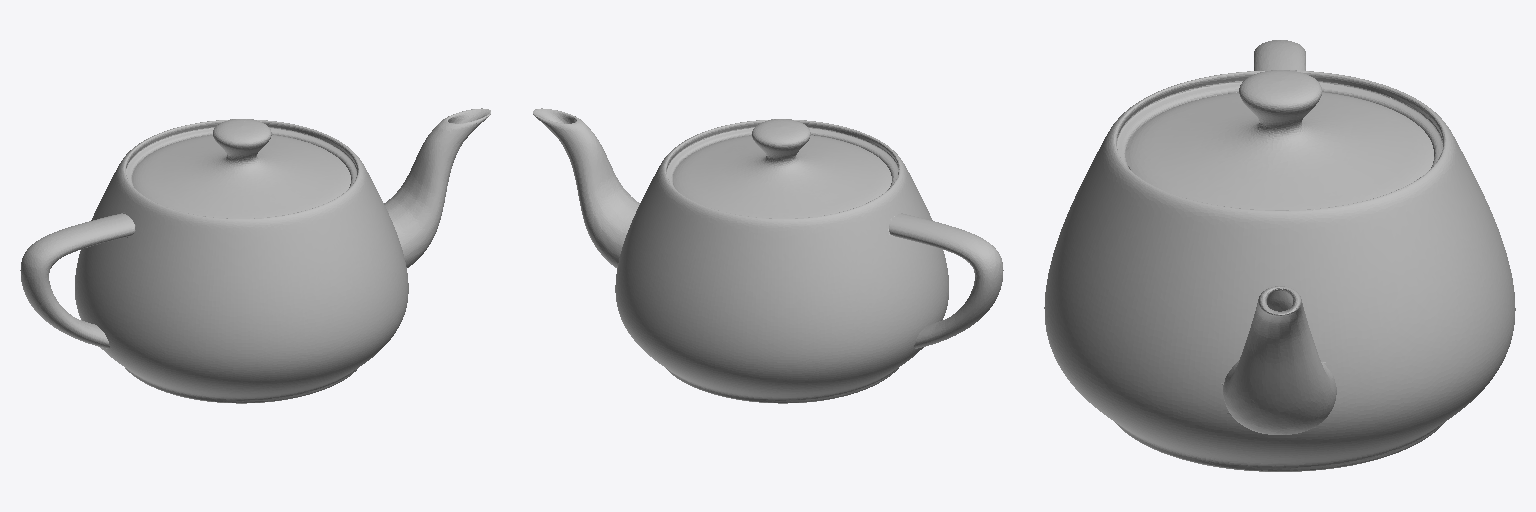
The robot description file, URDF, robot "root":
<robot name="root">
  <link name="link_001">
    <visual>
      <origin xyz="0 0 0" rpy="0 0 0"/>
      <geometry>
        <mesh filename="teapot.obj" scale="0.600E+00 0.600E+00 0.6000E+00"/>
      </geometry>
      <material name="">
        <color rgba="7.50E-01 7.50E-01 7.50E-01 1"/>
      </material>
    </visual>
    <collision>
      <origin xyz="0 0 0" rpy="0 0 0"/>
      <geometry>
        <mesh filename="teapot.obj" scale="0.6000E+00 0.6000E+00 0.6000E+00"/>
      </geometry>
    </collision>
    <inertial>
      <mass value="0.16"/> <!-- 质量：0.1kg -->
    </inertial>
  </link>
</robot>

--- What the picture shows (computed from the rendered views, not written in the file) ---
3 views of the same robot in one strip: view 1: azimuth 30°, elevation 25°; view 2: azimuth 150°, elevation 25°; view 3: azimuth 270°, elevation 25° (orthographic).
Model root with 1 links and 0 joints (none), rooted at link_001, posed every joint at zero.
Links seen in each view (by area): view 1: link_001; view 2: link_001; view 3: link_001.
Boxes of the visible links, x1=… form: link_001: x1=20, y1=108, x2=490, y2=403; link_001: x1=533, y1=108, x2=1003, y2=403; link_001: x1=1044, y1=40, x2=1515, y2=471.
Bounding box of the posed robot: 0.1409 × 0.0871 × 0.0671 m (x, y, z).
1 mesh visuals loaded from 1 distinct referenced files (1 OBJ).
